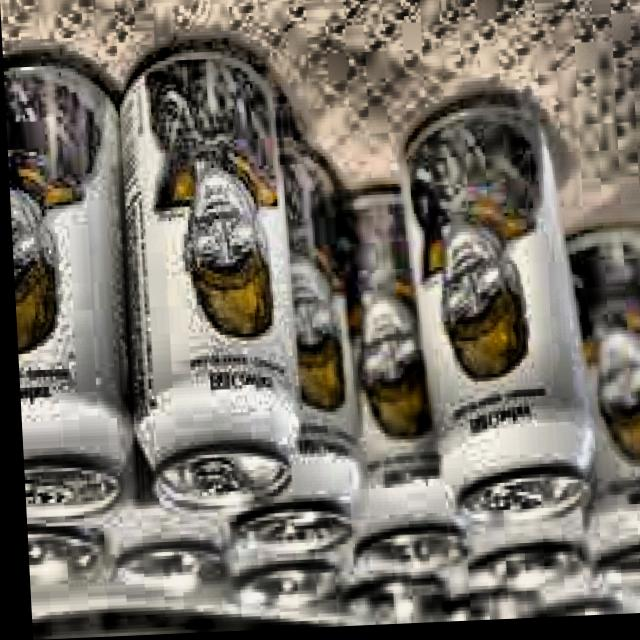can: (383, 95, 593, 543), (111, 44, 304, 531), (209, 145, 357, 569), (2, 50, 129, 535), (330, 189, 474, 585), (564, 228, 640, 596), (455, 510, 590, 603), (102, 508, 227, 596), (215, 545, 344, 623), (21, 517, 102, 592)
